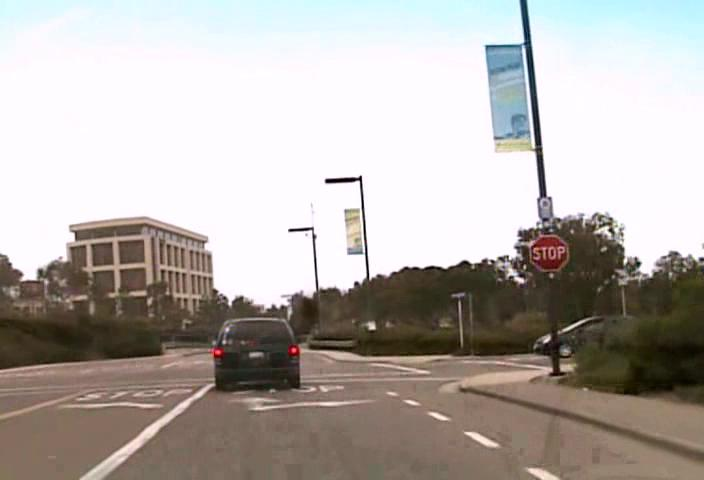stop: (529, 234, 569, 272)
